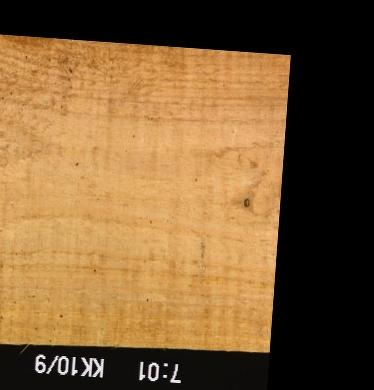dry_knot: (241, 197, 250, 208)
